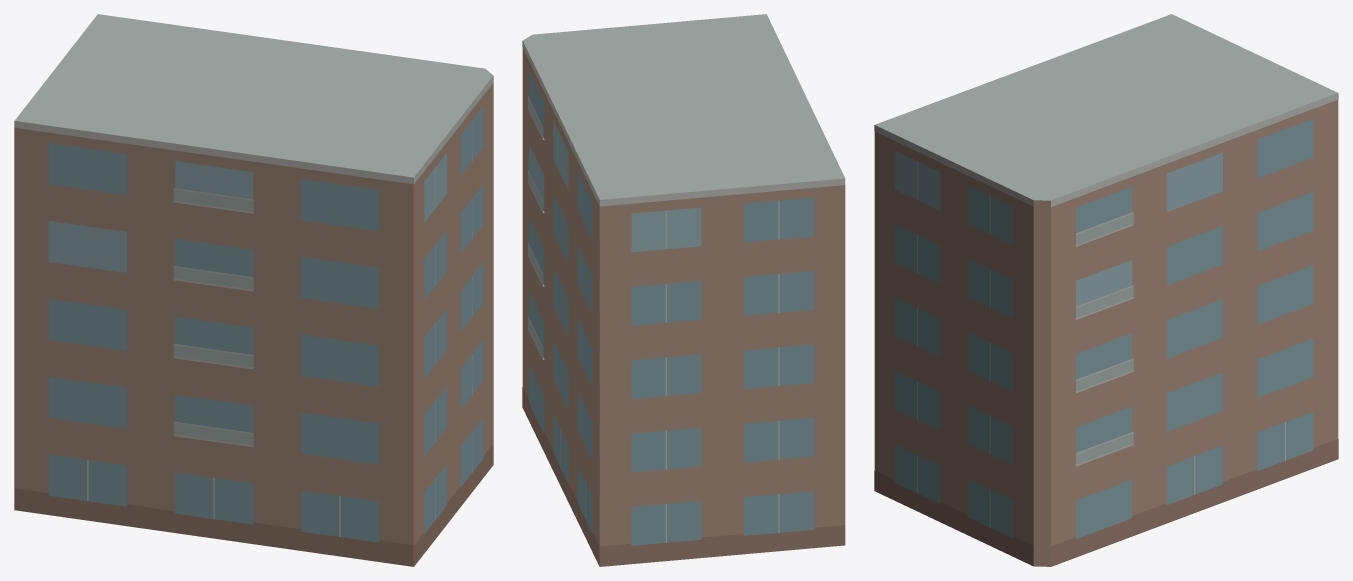
The model's file is survey-upis-33003028.glb.
The picture shows the model from 3 angles, left to right: view 1: azimuth 30°, elevation 25°; view 2: azimuth 150°, elevation 25°; view 3: azimuth 270°, elevation 25°; orthographic projection. The views are drawn at different scales.
Visible parts, largest first — view 1: survey-upis-33003028.tmp; view 2: survey-upis-33003028.tmp; view 3: survey-upis-33003028.tmp.
Boxes of the visible parts, x1,y1,x2,y2 form: survey-upis-33003028.tmp: (14, 14, 493, 566); survey-upis-33003028.tmp: (522, 14, 845, 566); survey-upis-33003028.tmp: (874, 14, 1338, 566).
Size of the model in its own units: 14.99 by 13.7 by 15.74.
